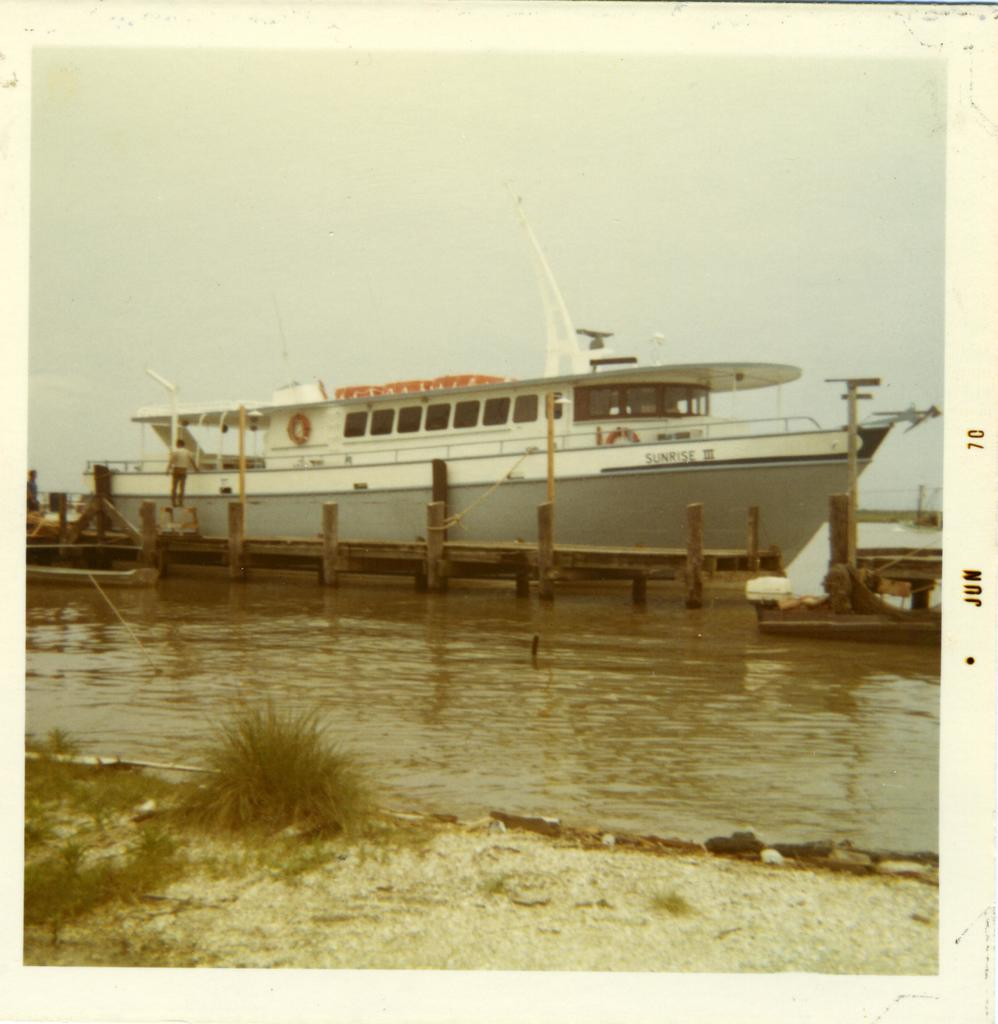PassengerShip: (66, 215, 934, 583)
